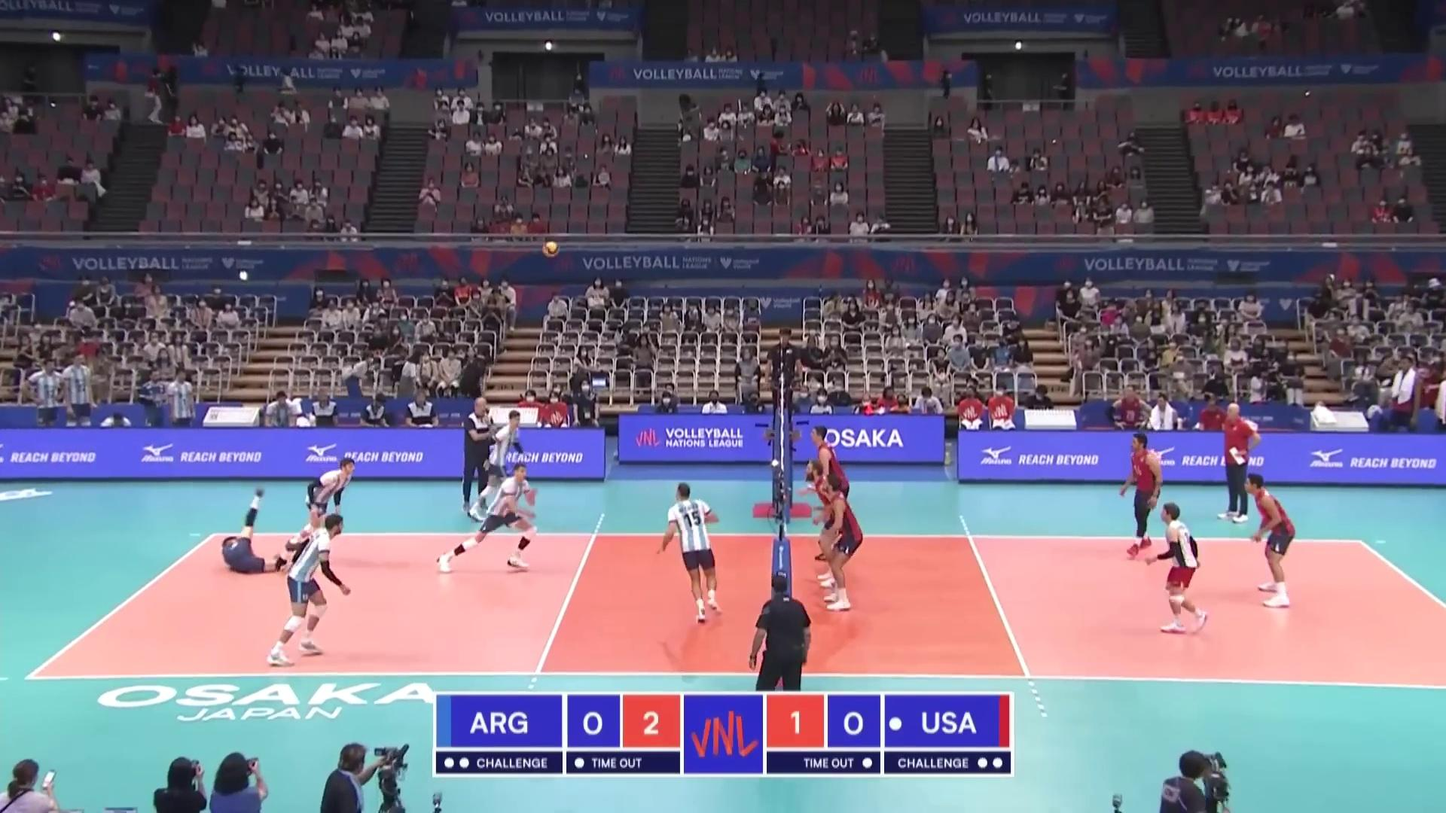player: (269, 515, 349, 664), (441, 460, 537, 573), (655, 482, 724, 625), (1151, 502, 1208, 633), (1243, 473, 1297, 609), (221, 489, 297, 575), (287, 457, 355, 552), (468, 412, 526, 522), (805, 426, 852, 560), (820, 476, 863, 610), (806, 460, 849, 590), (1123, 433, 1165, 557)
refree: (750, 579, 815, 693), (767, 326, 806, 436)
